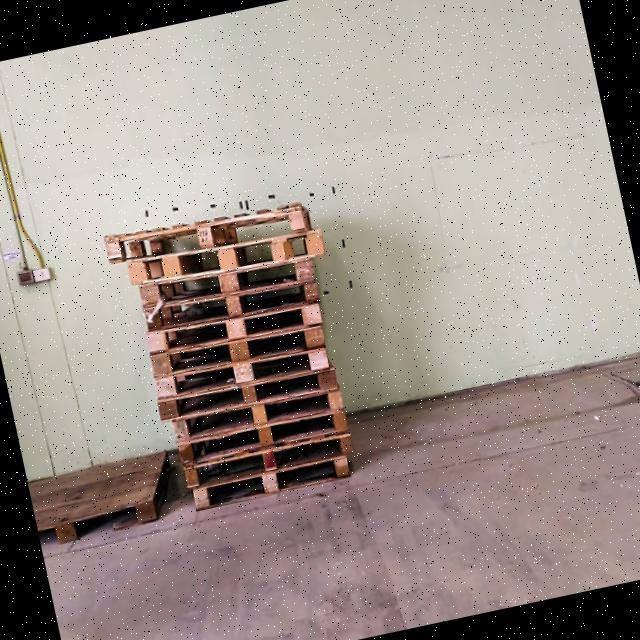Wooden-Pallets: (94, 178, 314, 270), (110, 215, 332, 303), (128, 240, 321, 328), (132, 310, 336, 390), (140, 334, 338, 412), (132, 292, 330, 368), (130, 270, 326, 346), (166, 403, 352, 477), (178, 445, 362, 517), (158, 378, 344, 448), (172, 431, 360, 496)
